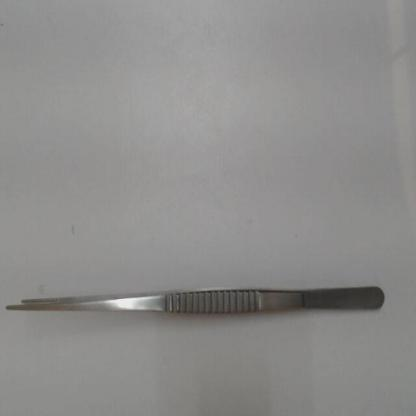DeBakey Dissector: (8, 273, 400, 340)
